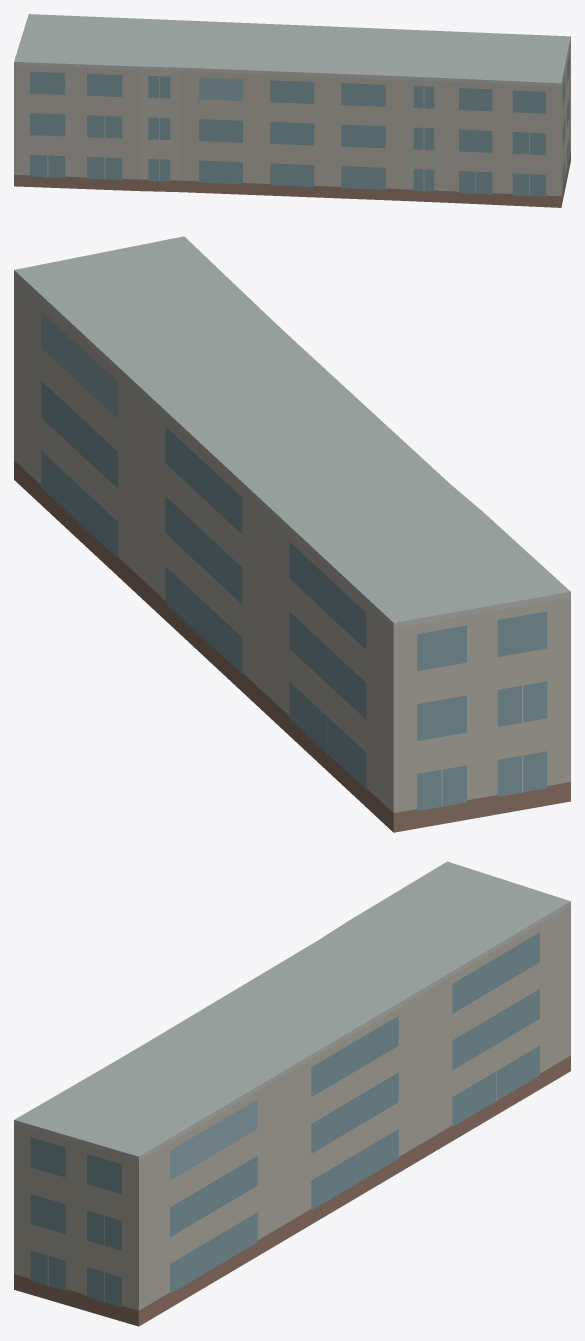
Rendered from survey-upis-32554326.glb.
3 renders of one model, top to bottom at view 1: azimuth 30°, elevation 25°; view 2: azimuth 150°, elevation 25°; view 3: azimuth 270°, elevation 25°, orthographic. The views are drawn at different scales.
Visible parts, largest first — view 1: survey-upis-32554326.tmp; view 2: survey-upis-32554326.tmp; view 3: survey-upis-32554326.tmp.
Part boxes in pixels (x1,y1,x2,y2): survey-upis-32554326.tmp: [14, 14, 570, 207]; survey-upis-32554326.tmp: [14, 236, 570, 832]; survey-upis-32554326.tmp: [14, 861, 570, 1326].
Size of the model in its own units: 34.12 by 9.15 by 27.19.
